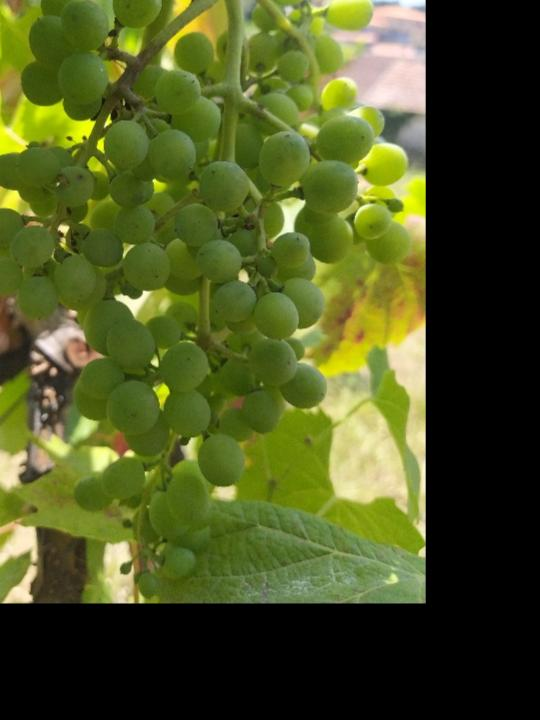grape: (0, 0, 409, 602)
